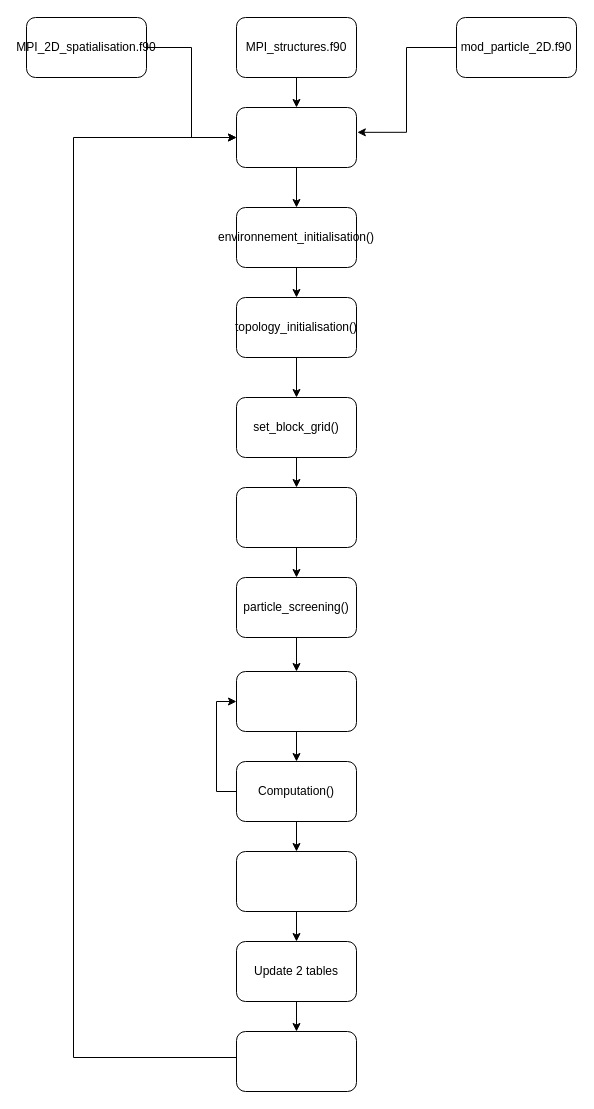
The diagram is 594 pixels wide and 1109 high, and some of its shapes have lost their labels. The centre of each missing label's shape, as x and y in pixels:
Finish step of time t and loop to t+dt: point (296, 1061)
Loop on union of table_particle_inside(): point (296, 701)
neigbour_block(): point (296, 517)
tri_casier_method.f90: point (296, 137)
Update X,U,D: point (296, 881)
